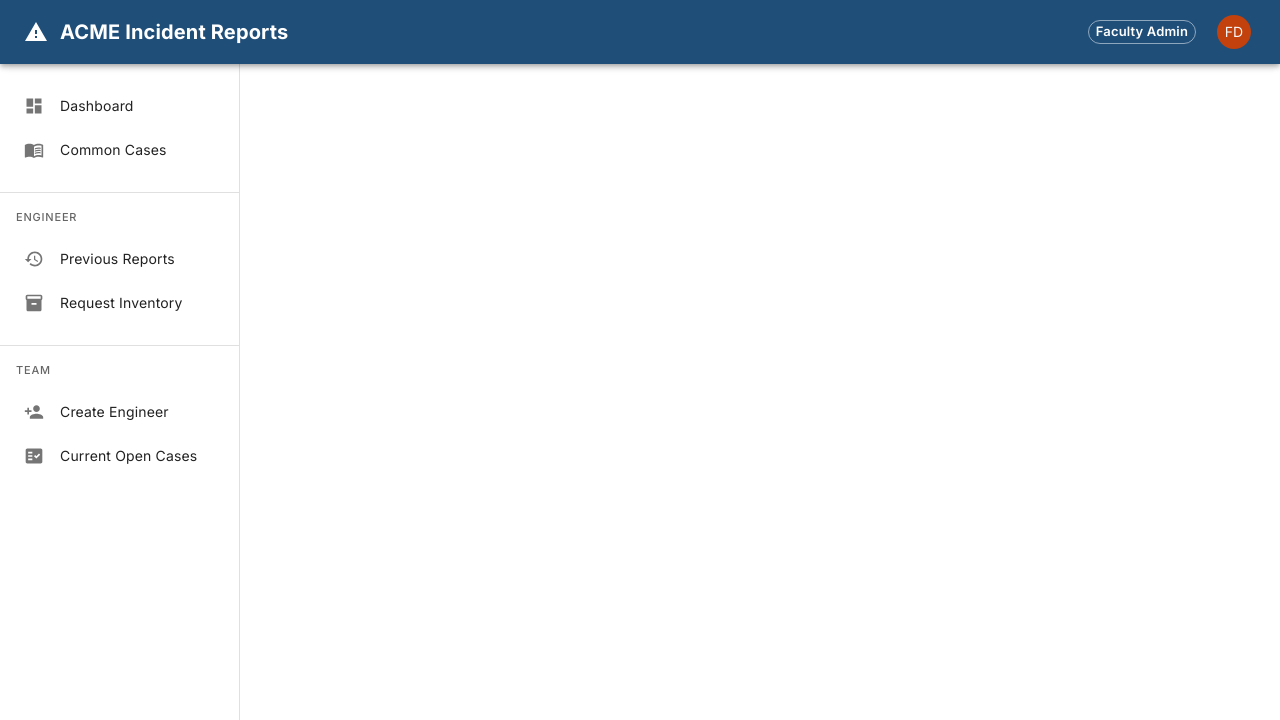
Test: AppShell against the real backend › shows no "Mock data" chip and no "Reset demo data" in the account menu
The image size is (1280, 720).
Click the button with aria-label "Account menu" at (1234, 32), box [1212, 10, 1256, 54]
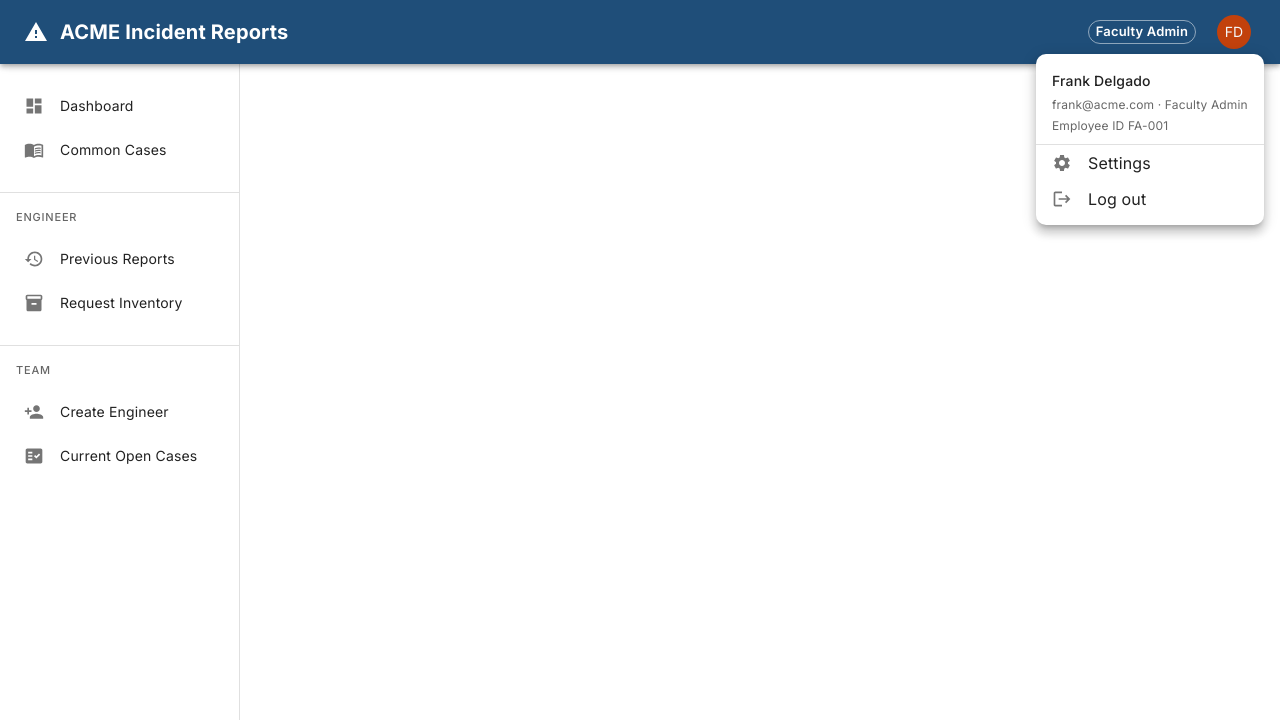
Now the menu items read "Settings", "Log out", in this order, box [1052, 153, 1151, 173]; [1052, 189, 1146, 209]
